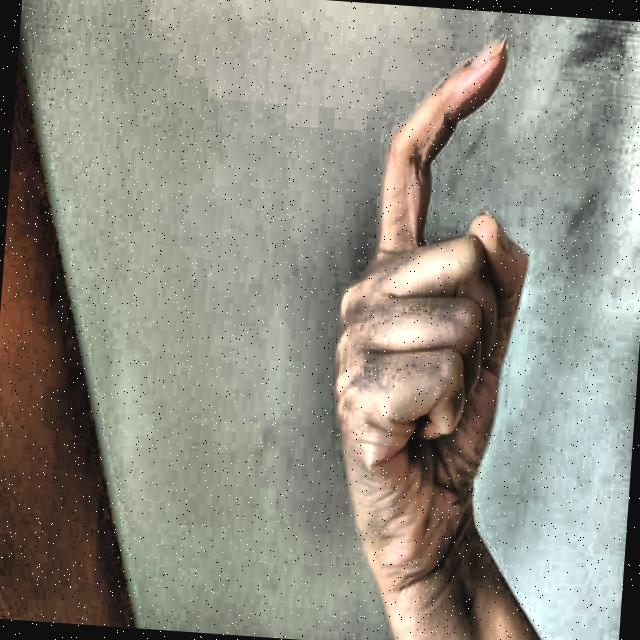E: (307, 21, 547, 578)
